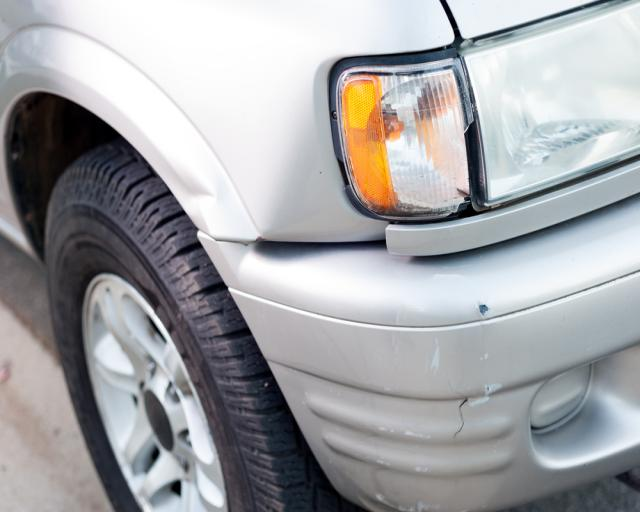crack: (446, 371, 469, 439)
dent: (165, 170, 213, 213)
lamp broken: (335, 61, 481, 217)
scratch: (367, 424, 444, 512), (471, 301, 502, 409), (425, 342, 443, 377)
